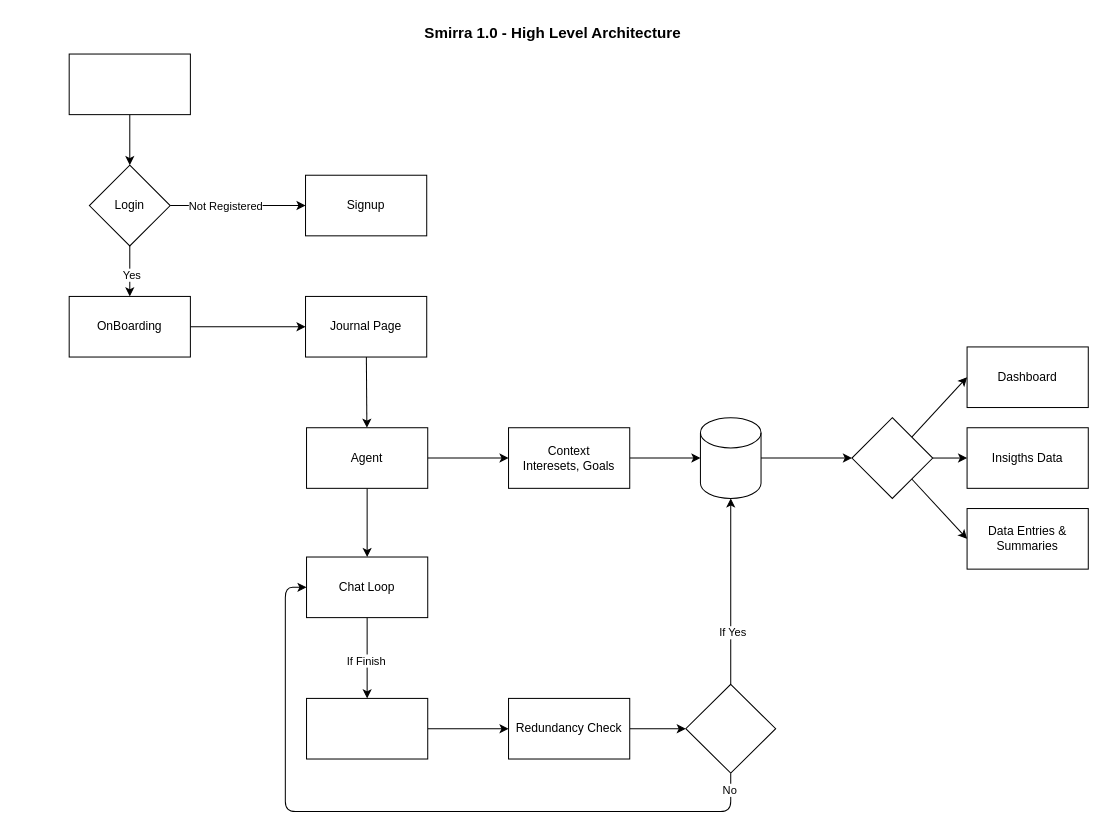
Image size: 1106x837. Some labels were removed from this diagram. The shapes that lost their labels are listed below. From the top down, each one's centre as x and y in pixels, then its label:
(x=129, y=84): User
(x=730, y=457): DB
(x=892, y=457): Analysis
(x=367, y=728): Extraction
(x=730, y=728): User Approval
